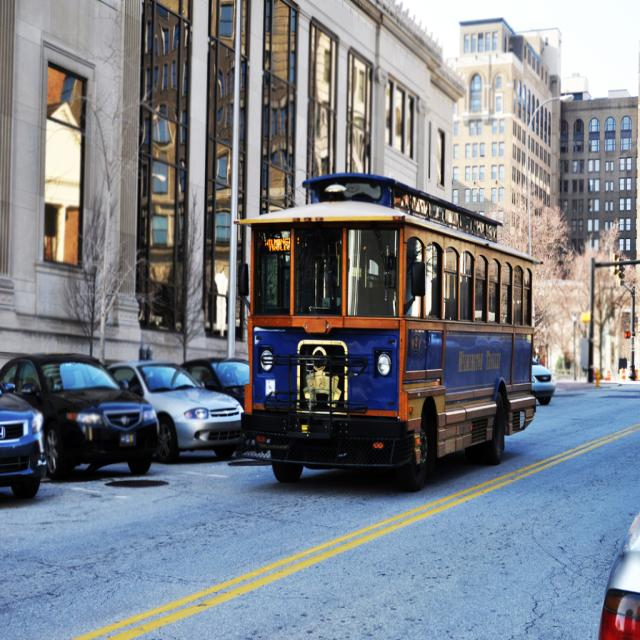Buses: (249, 194, 540, 484)
Passenger Car: (38, 351, 160, 482), (160, 350, 244, 482), (0, 367, 44, 500)
